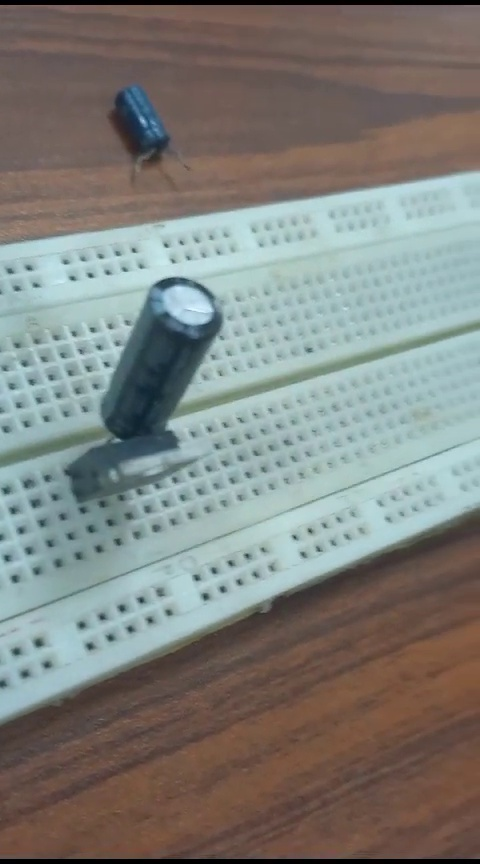capacitor: (110, 259, 223, 427), (103, 79, 195, 180)
voltage regulator: (75, 433, 195, 492)
